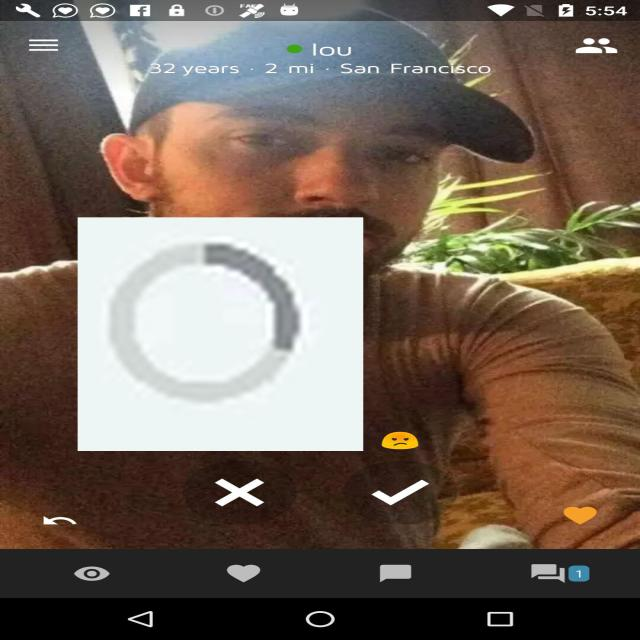misdirection: (78, 217, 363, 451)
